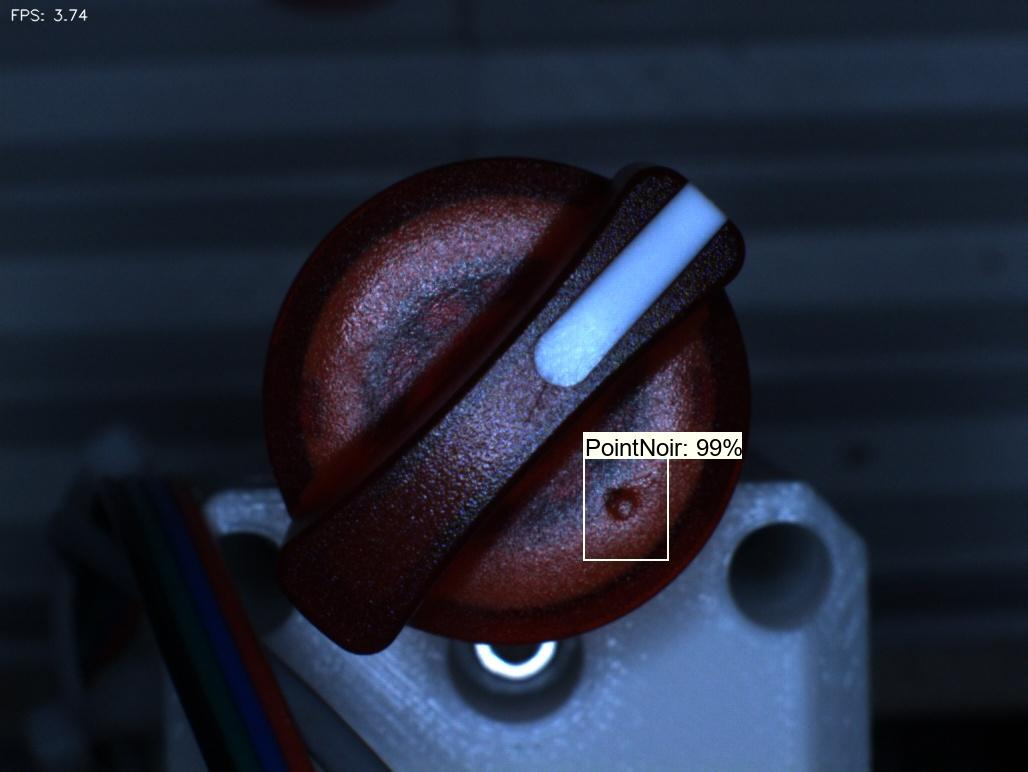Choc: (575, 463, 665, 544)
